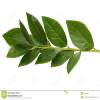Blueberry leaf: (65, 18, 96, 51), (40, 14, 69, 49), (26, 11, 48, 46), (32, 49, 64, 67), (64, 50, 84, 77), (18, 47, 42, 68), (3, 43, 32, 59), (49, 50, 73, 69), (19, 18, 34, 45)
